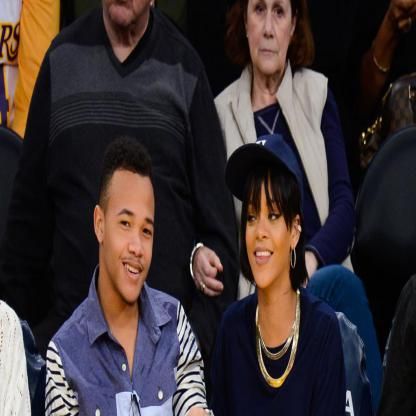face: (103, 170, 156, 305), (247, 170, 291, 288), (252, 4, 292, 69)
